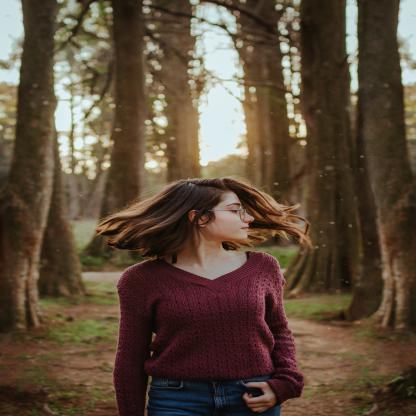Eye: (228, 206, 240, 213)
Mouth: (240, 224, 251, 232)
Nose: (240, 212, 256, 224)
